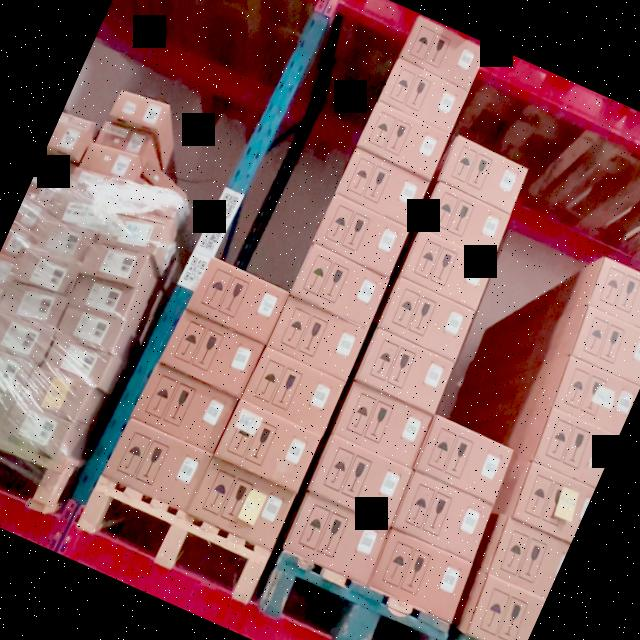box: (104, 417, 211, 510), (217, 399, 321, 490), (309, 434, 411, 525), (133, 363, 237, 452), (189, 459, 294, 547), (370, 532, 472, 622), (284, 495, 387, 584), (186, 257, 290, 345), (160, 310, 264, 398), (393, 472, 493, 562), (243, 346, 344, 434), (332, 384, 431, 469), (290, 244, 389, 329), (268, 296, 367, 380), (356, 328, 453, 413), (416, 417, 512, 502), (379, 277, 474, 362), (314, 194, 410, 277), (402, 230, 494, 310), (336, 148, 429, 227), (357, 102, 449, 179), (437, 135, 527, 213), (553, 356, 640, 436), (421, 183, 510, 261), (533, 408, 618, 489), (399, 16, 487, 92), (379, 59, 467, 134), (571, 306, 640, 386), (4, 403, 71, 459), (589, 257, 640, 328), (42, 337, 113, 388), (24, 366, 89, 421), (0, 283, 67, 330), (59, 305, 125, 352), (16, 250, 81, 297), (71, 273, 135, 318), (81, 245, 148, 286), (99, 212, 165, 253), (0, 314, 52, 366), (35, 219, 94, 261), (95, 119, 151, 158), (118, 184, 180, 219), (80, 143, 138, 178), (113, 92, 168, 128), (68, 168, 126, 199), (48, 195, 101, 227), (0, 352, 32, 399), (142, 161, 184, 195)
